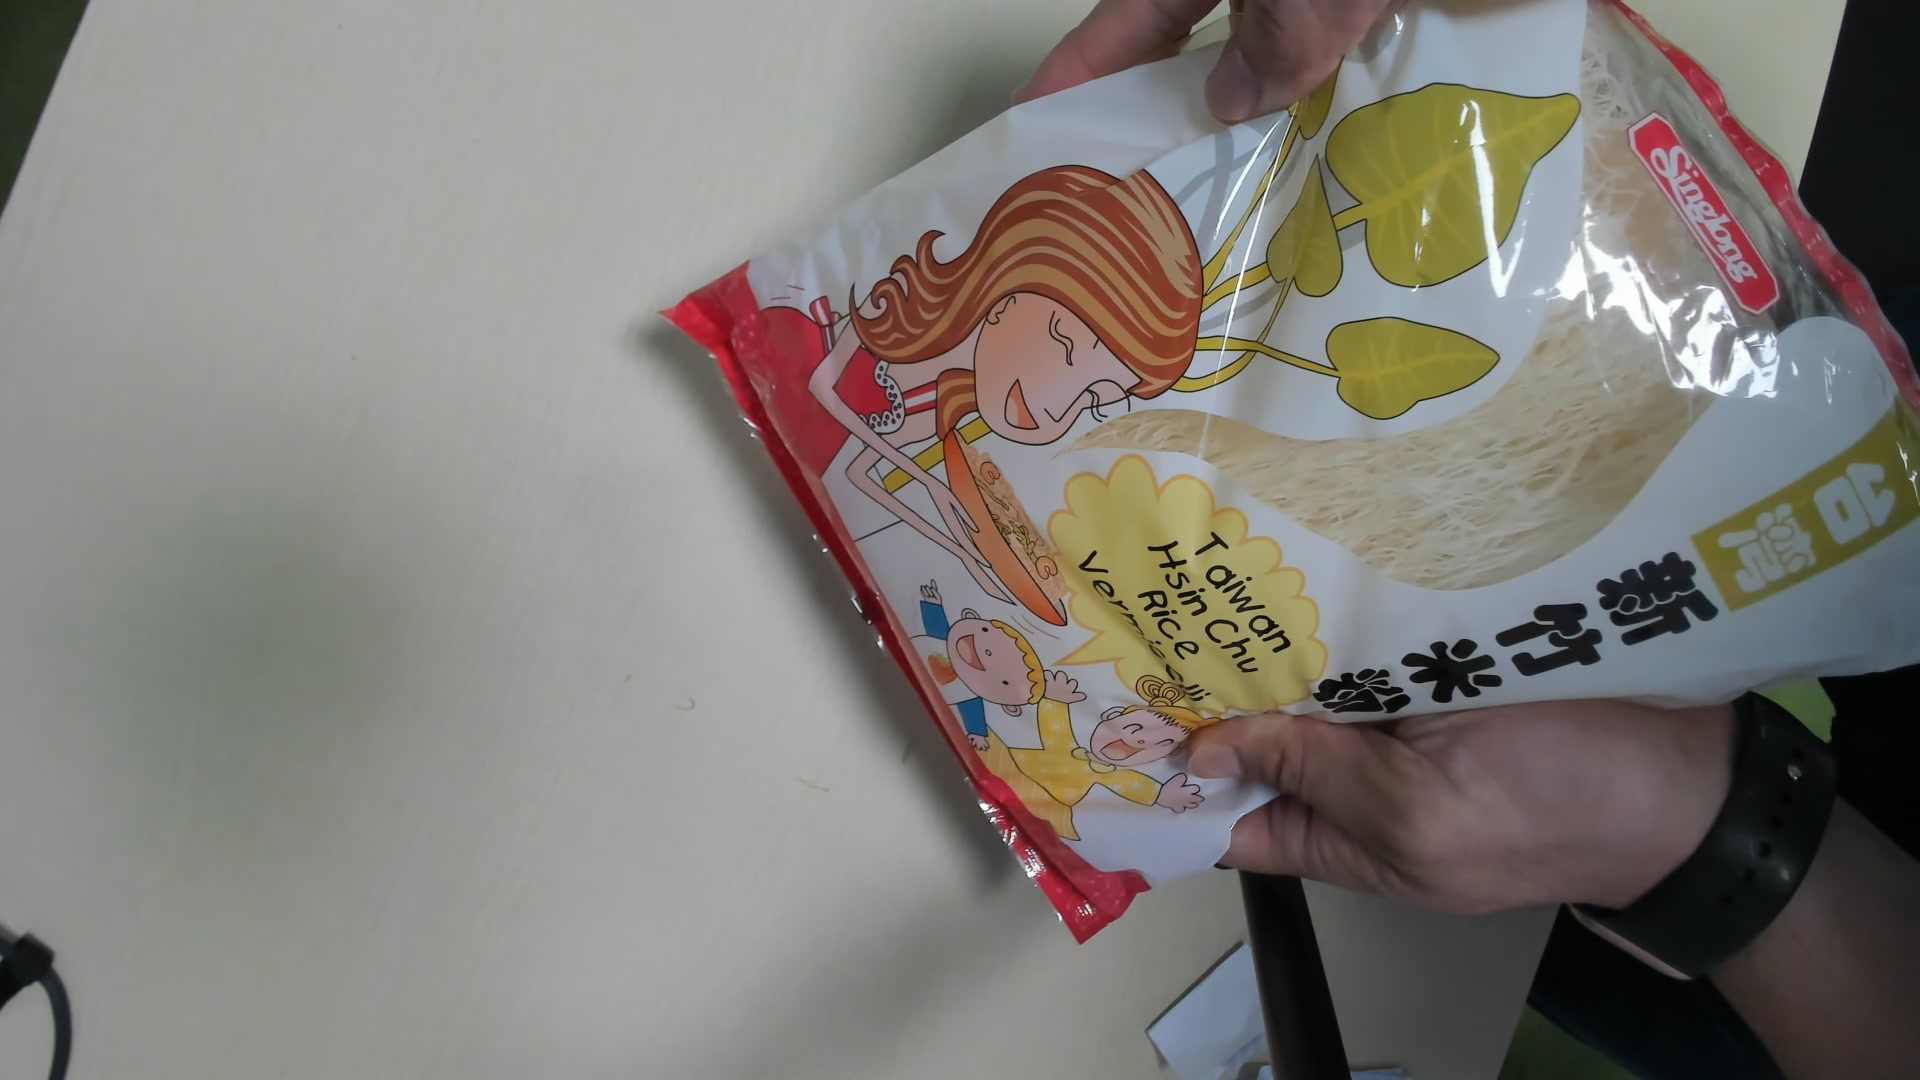BeeHoonVermicelli_0-99g_NonHalal_NonHealthy: (670, 3, 1920, 945)
